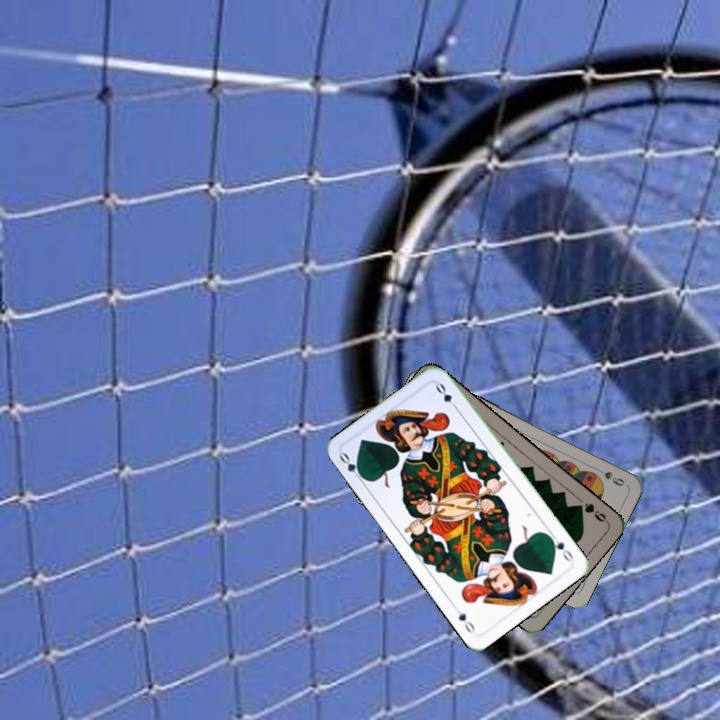G9: (572, 499, 610, 525)
GO: (335, 449, 368, 485), (544, 529, 576, 565)
S9: (590, 464, 627, 489)
